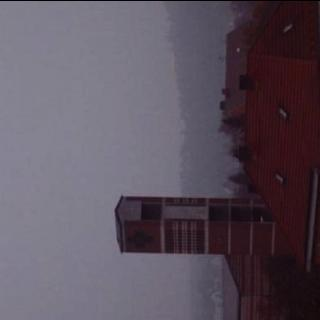Stratus: (0, 0, 197, 320)
